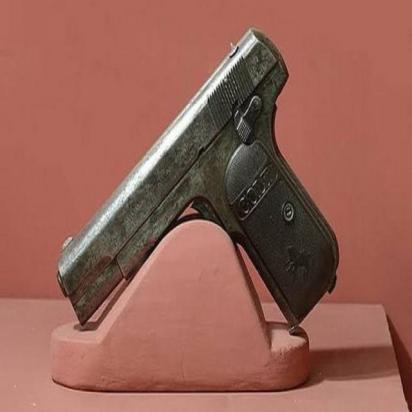Gun: (48, 19, 346, 339)
